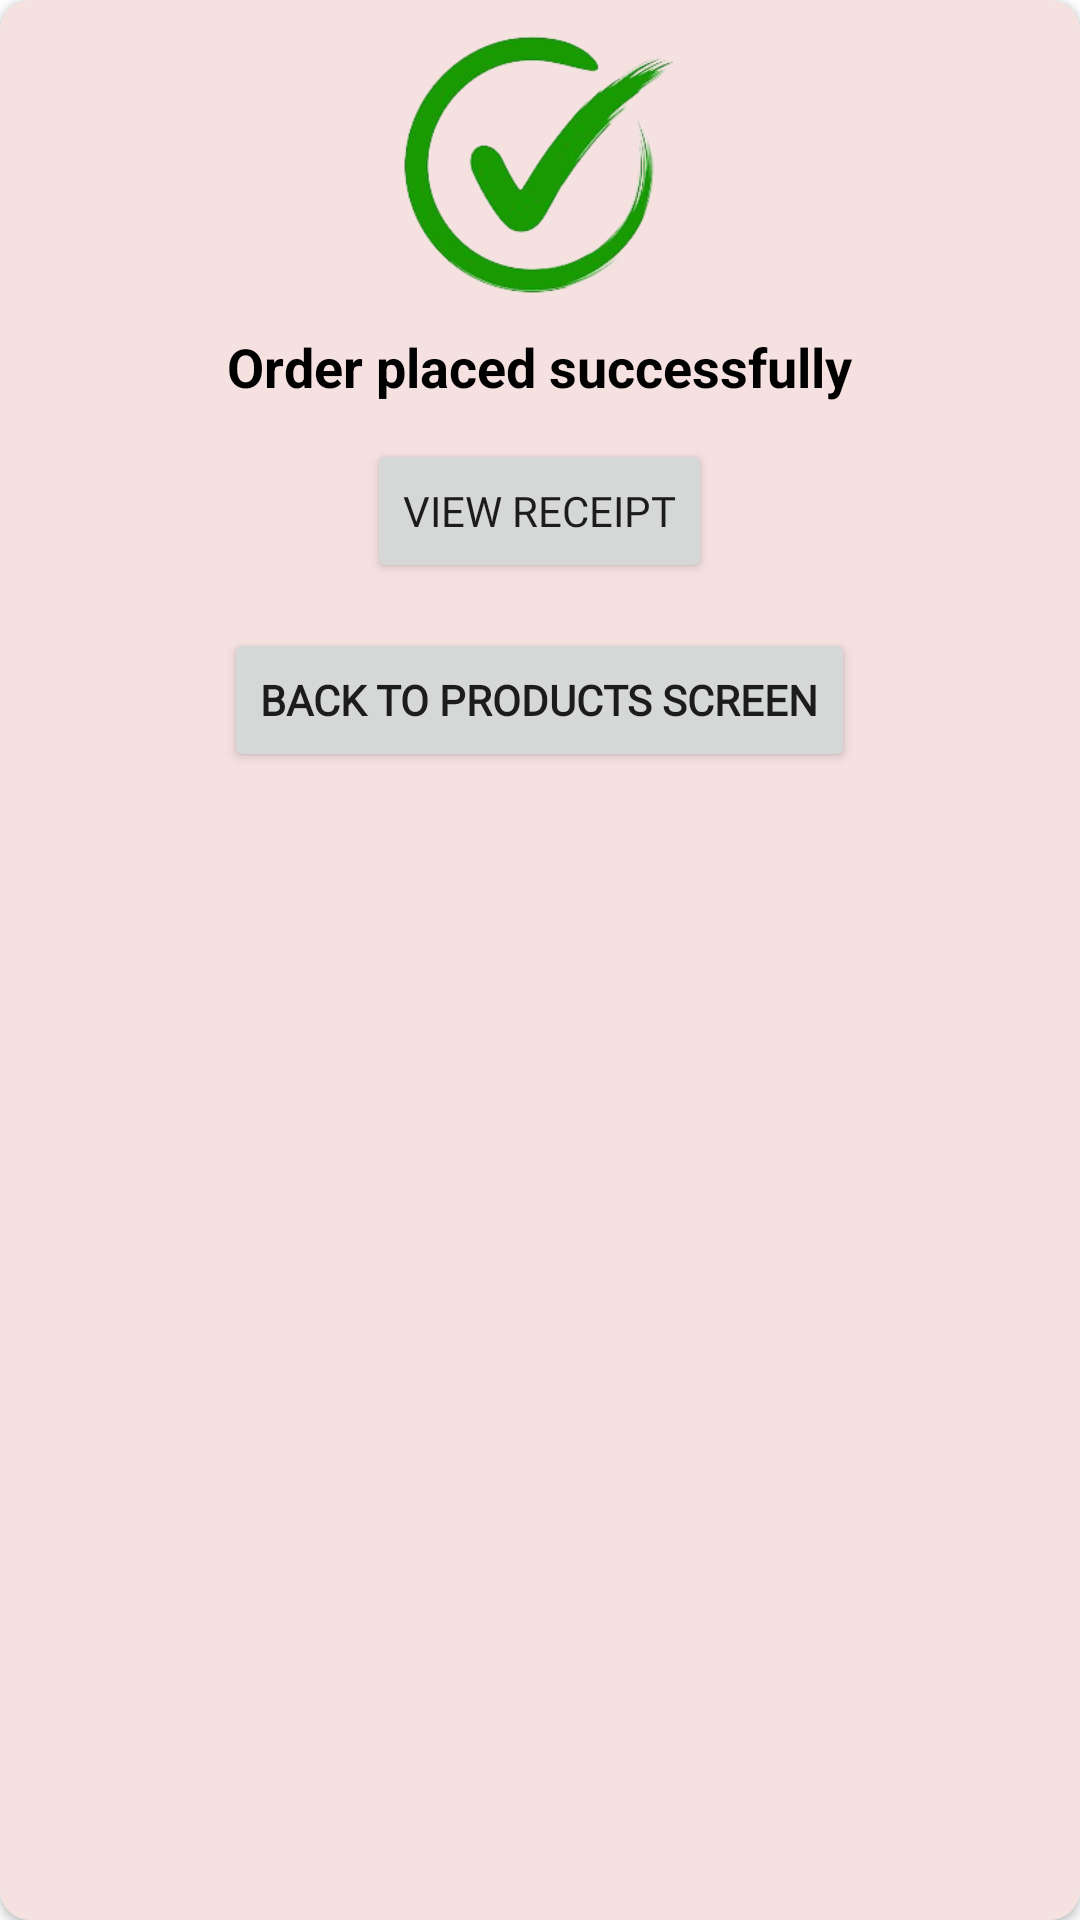

Icons on this 1080x1920 Android screen, each with its box as (x1=x1, y1=y1, x2=x2, y2=y2):
tick: (x1=404, y1=36, x2=673, y2=293)
